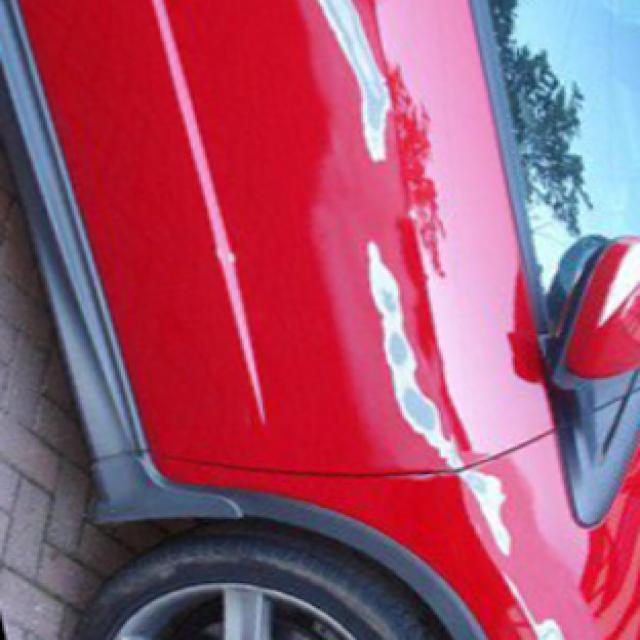scratch: (346, 225, 528, 556), (302, 2, 420, 174), (492, 566, 574, 639)
